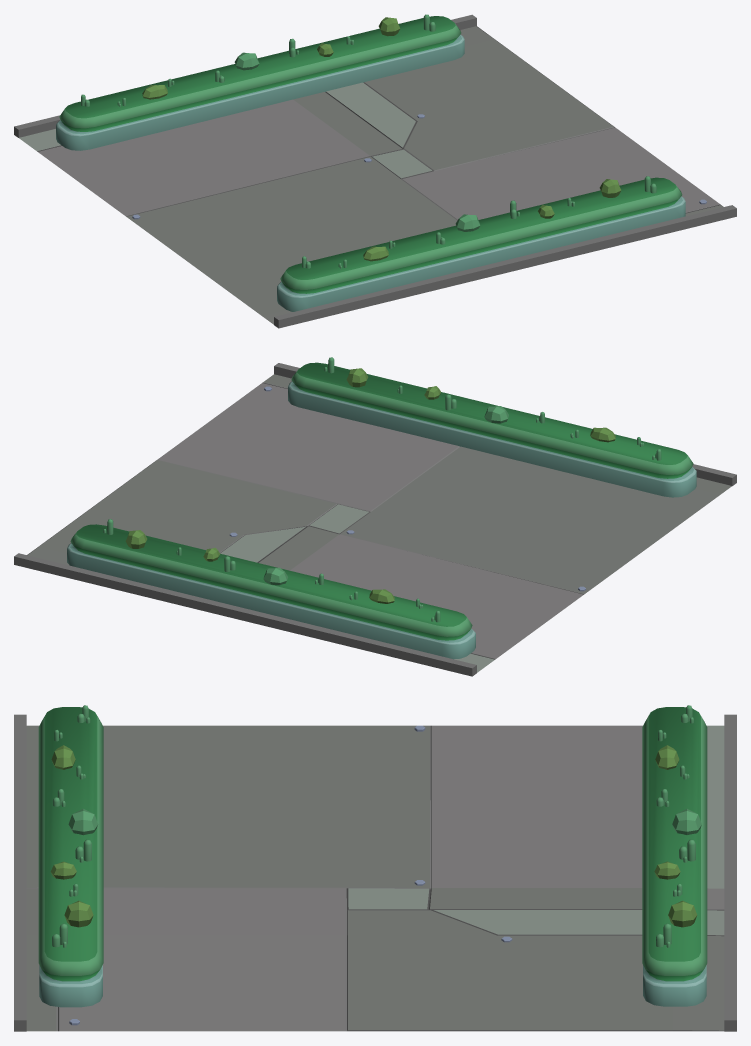
The model's file is Road_A.gltf.
3 renders of one model, top to bottom at view 1: azimuth 30°, elevation 25°; view 2: azimuth 150°, elevation 25°; view 3: azimuth 270°, elevation 25°, orthographic. The views are drawn at different scales.
Visible parts, largest first — view 1: Scifi_Panel_04_Plaza014_group4.011_Scifi_Panel_04_Plaza014_.; view 2: Scifi_Panel_04_Plaza014_group4.011_Scifi_Panel_04_Plaza014_.; view 3: Scifi_Panel_04_Plaza014_group4.011_Scifi_Panel_04_Plaza014_..
Part boxes in pixels (x1=…): Scifi_Panel_04_Plaza014_group4.011_Scifi_Panel_04_Plaza014_.: x1=14, y1=14, x2=736, y2=328; Scifi_Panel_04_Plaza014_group4.011_Scifi_Panel_04_Plaza014_.: x1=14, y1=357, x2=736, y2=676; Scifi_Panel_04_Plaza014_group4.011_Scifi_Panel_04_Plaza014_.: x1=14, y1=705, x2=736, y2=1031.
Size of what is drawn, in the model's own units: 10 by 0.9439 by 10.
1 material, 1 textured.
